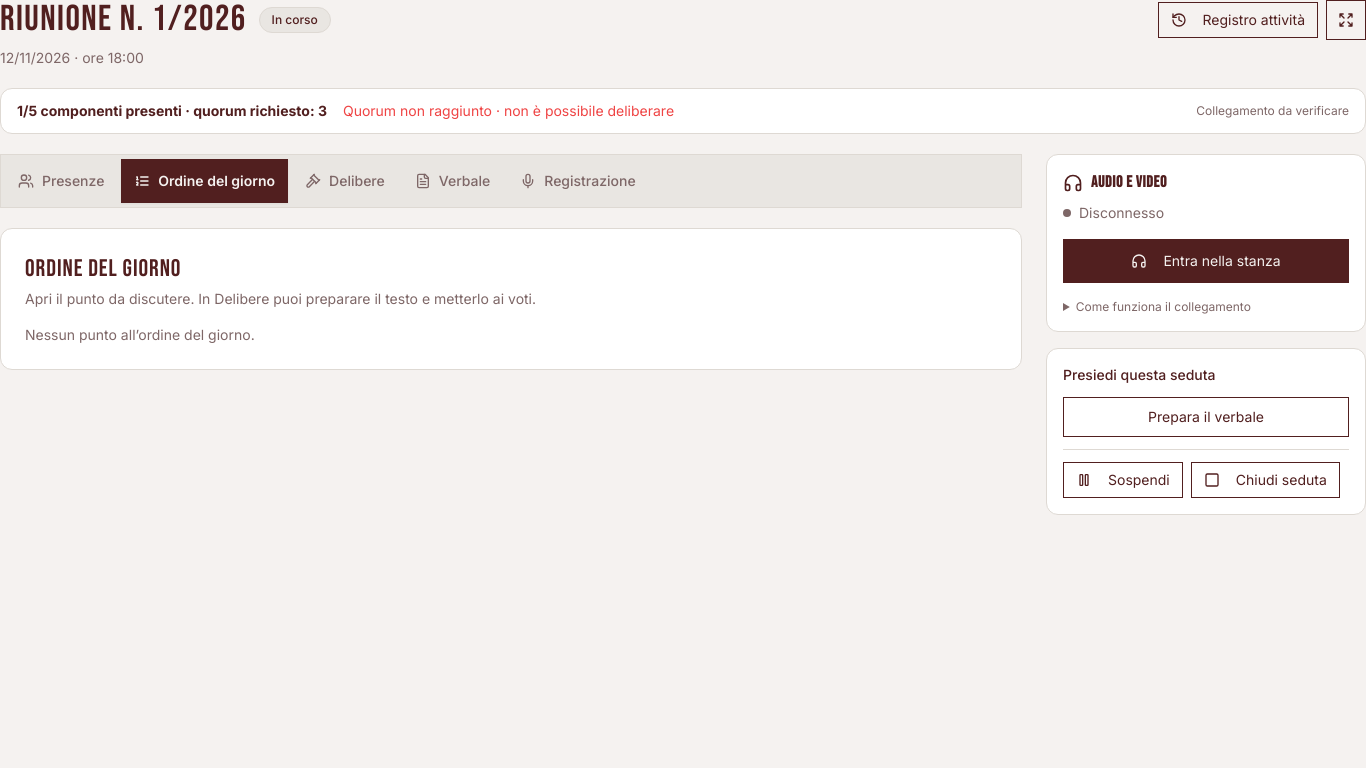
Scenario: Closing a Board meeting › allows closure before later review, including without quorum
Later steps or results of the test are not shown.
Expected: the text "Quorum non raggiunto · non è possibile deliberare" is shown, [343,101,674,121]
Click the button "Chiudi seduta": (1265, 480) [1191,462,1340,498]
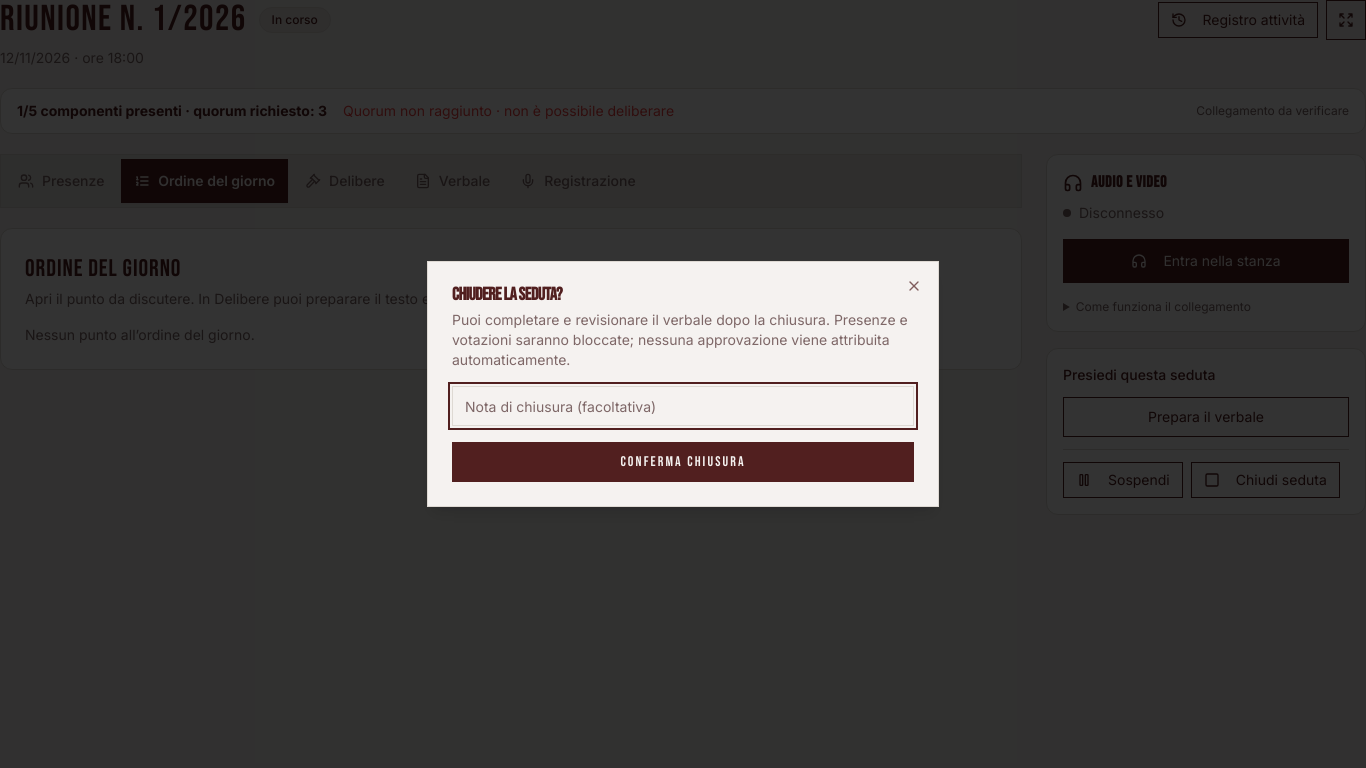
Now the button "Conferma chiusura" is enabled, box [452,442,914,482]
Now the text "Puoi completare e revisionare il verbale dopo la chiusura" is shown, box [452,311,908,368]
In the field named "Motivazione della seduta": (683, 406) [452,386,914,426], type "Quorum non raggiunto"
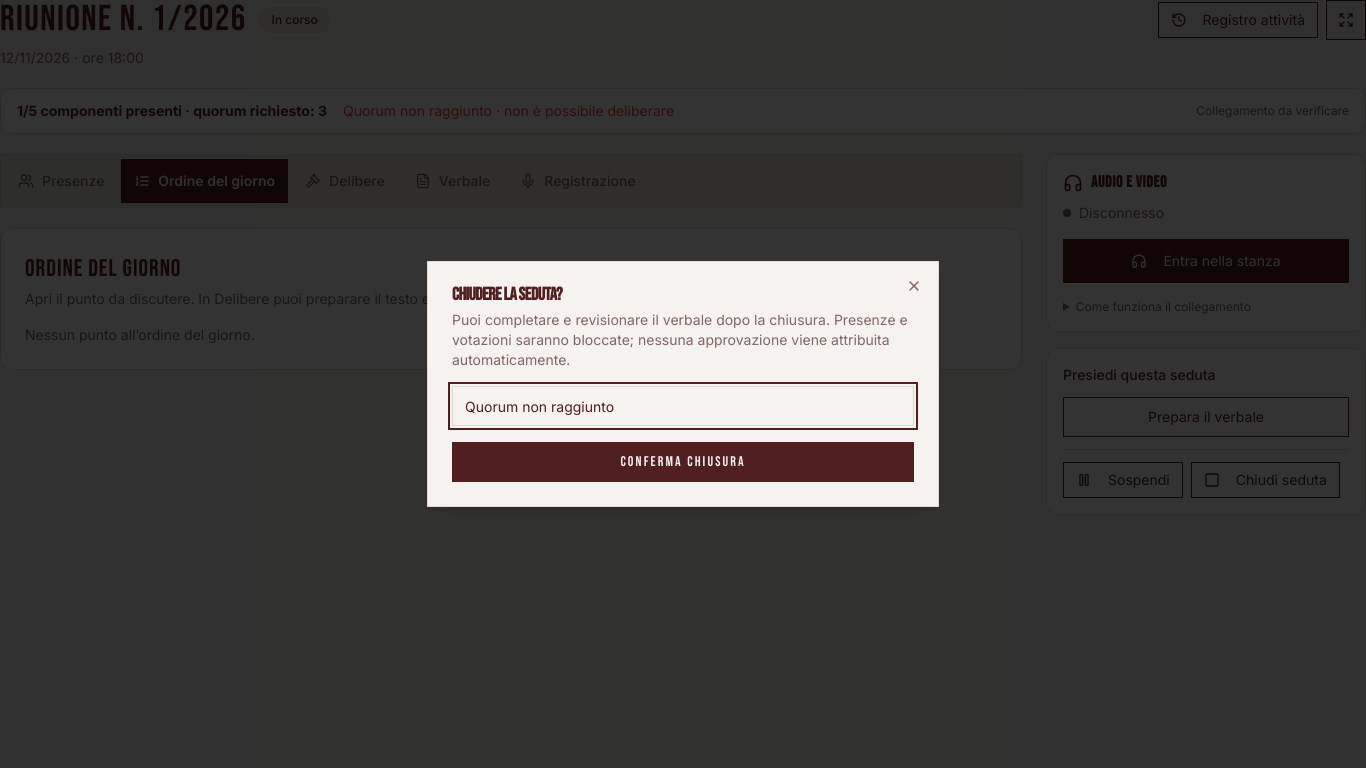
Now the button "Conferma chiusura" is enabled, box [452,442,914,482]
